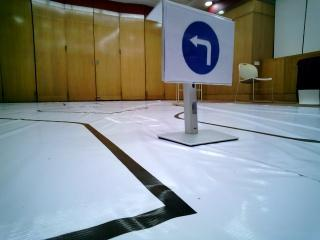left: (172, 15, 231, 80)
